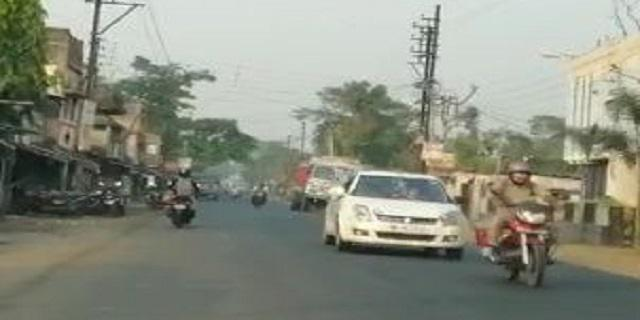Car: (321, 165, 473, 262)
Motorbike: (474, 161, 562, 294), (162, 167, 201, 225)
Truck: (280, 151, 351, 210)
